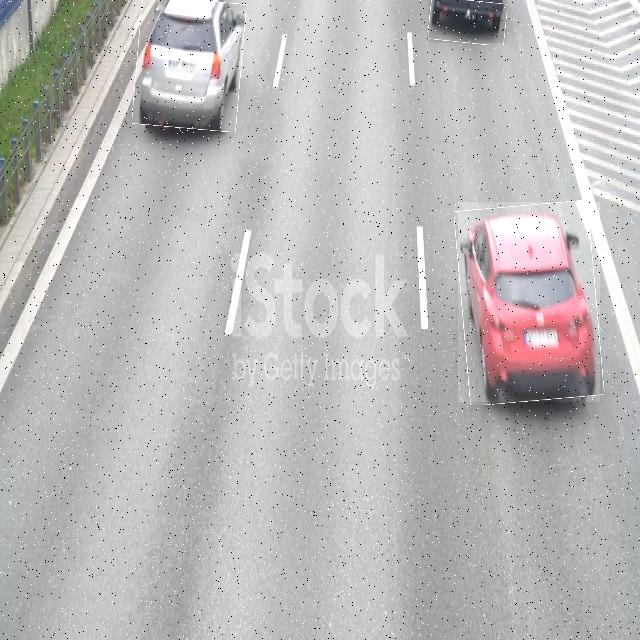Car: (458, 202, 600, 402), (134, 0, 243, 129), (429, 0, 507, 43)
